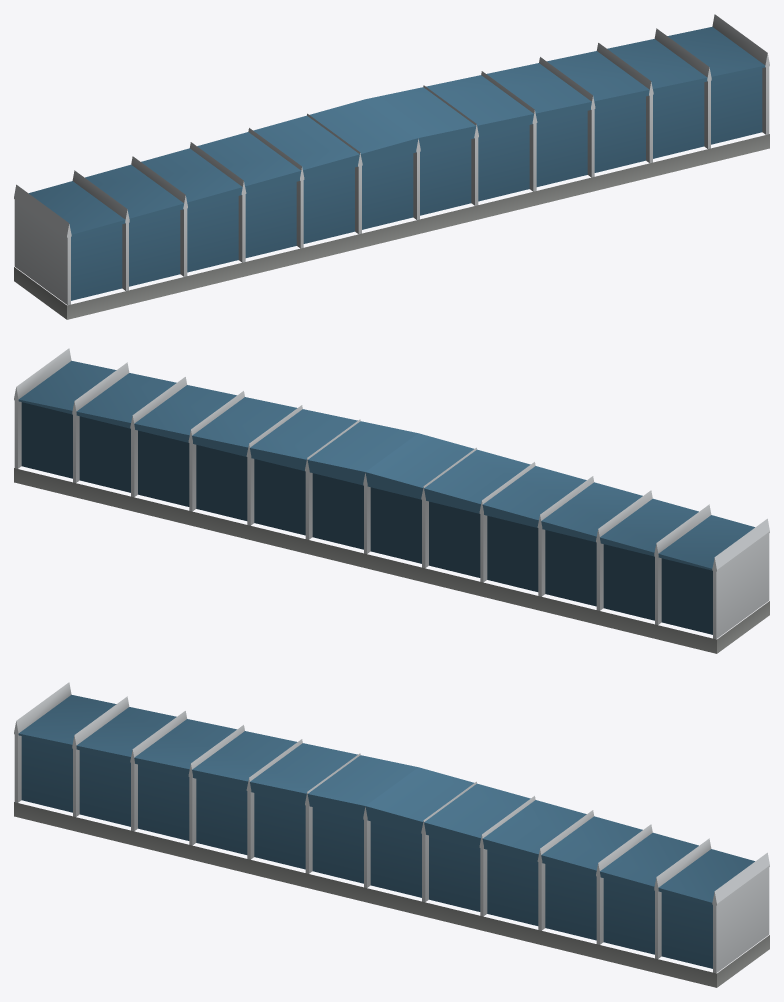
The model's file is expo-concourse.glb.
3 views of the same model, one above another, from view 1: azimuth 30°, elevation 25°; view 2: azimuth 150°, elevation 25°; view 3: azimuth 330°, elevation 25° (orthographic).
Parts seen in each view (by area): view 1: expo-concourse; view 2: expo-concourse; view 3: expo-concourse.
Part boxes in pixels (x1,y1,x2,y2): expo-concourse: (14, 14, 769, 319); expo-concourse: (14, 348, 769, 653); expo-concourse: (14, 682, 769, 987).
Bounding box in the file's own units: 153 × 20 × 20.
